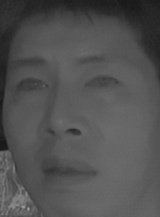eye: (83, 72, 122, 95), (12, 75, 48, 96)
mouth: (36, 153, 96, 192)
